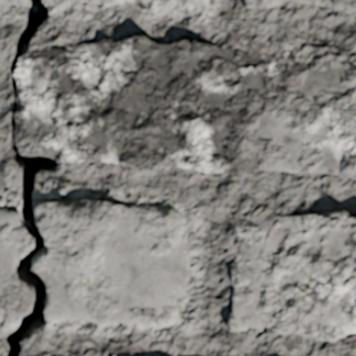brick: (15, 36, 355, 178), (226, 209, 355, 341), (245, 0, 355, 13), (38, 152, 48, 155)
broken_brick: (34, 197, 190, 328), (0, 206, 33, 319), (82, 0, 209, 12), (46, 0, 80, 6), (0, 0, 24, 6)
crack: (2, 0, 58, 355)
